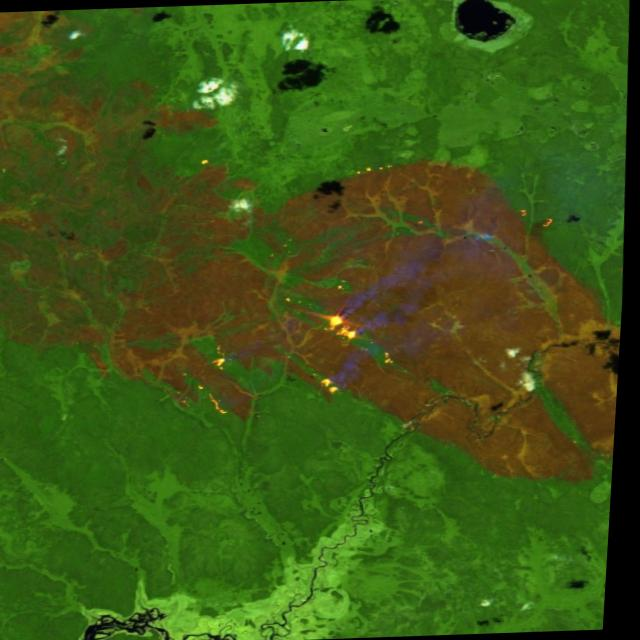fire: (199, 339, 256, 422), (321, 298, 376, 342), (514, 203, 560, 230), (315, 369, 357, 395)
